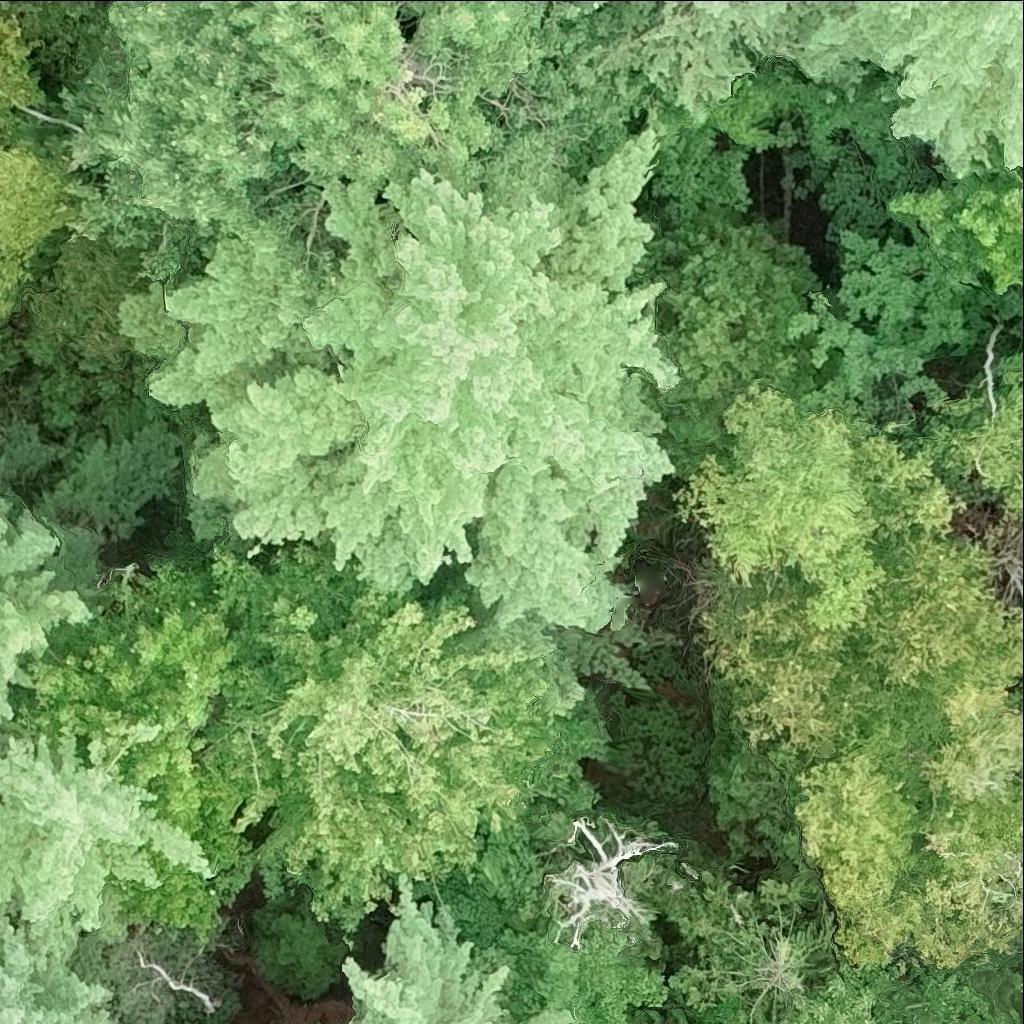crown: (125, 131, 667, 632), (62, 0, 654, 277), (190, 538, 565, 920), (697, 503, 1023, 782), (11, 568, 243, 934), (675, 380, 951, 628), (789, 685, 1023, 968), (0, 737, 210, 924), (587, 0, 877, 117), (855, 0, 1023, 173), (346, 881, 523, 1023), (667, 871, 832, 1023), (885, 139, 1023, 294), (467, 919, 663, 1023), (783, 949, 1023, 1023), (0, 522, 85, 714), (545, 819, 673, 945), (925, 360, 1023, 519), (0, 896, 119, 1023), (0, 145, 77, 322), (61, 913, 169, 1023), (690, 1002, 758, 1023), (534, 1011, 576, 1023)
